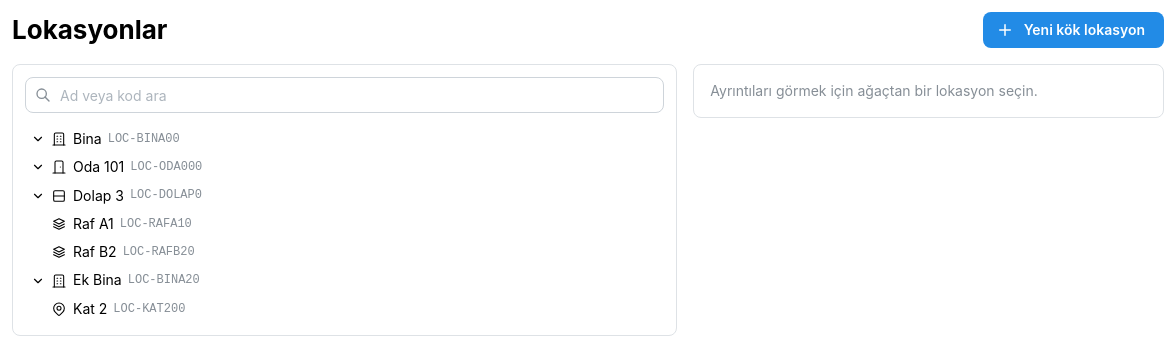
Test: LocationsPage › filters the tree by search, keeping ancestors of matches
Expected: the text "Ek Bina" is shown, [73,270,122,291]
In the field with placeholder "Ad veya kod ara": (345, 95) [25,77,664,113], type "Raf B2"
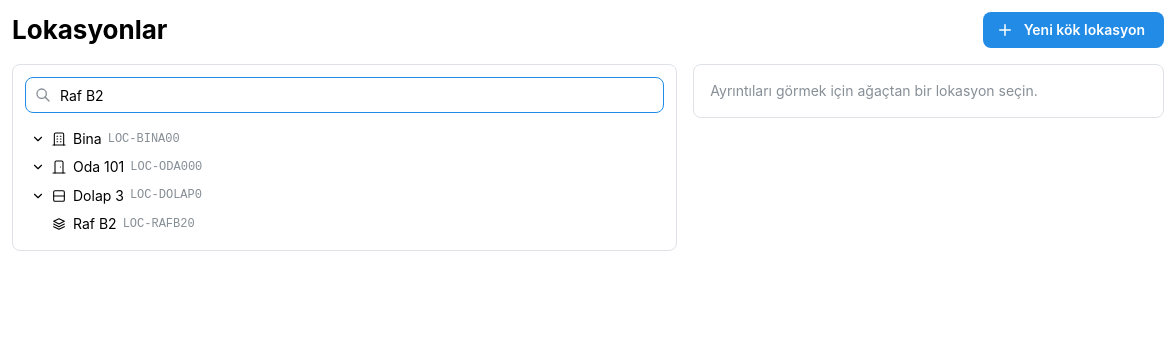
Expected: the text "Raf B2" is shown, [73,214,117,234]
Result: the text "Raf A1" is gone
Result: the text "Ek Bina" is gone
